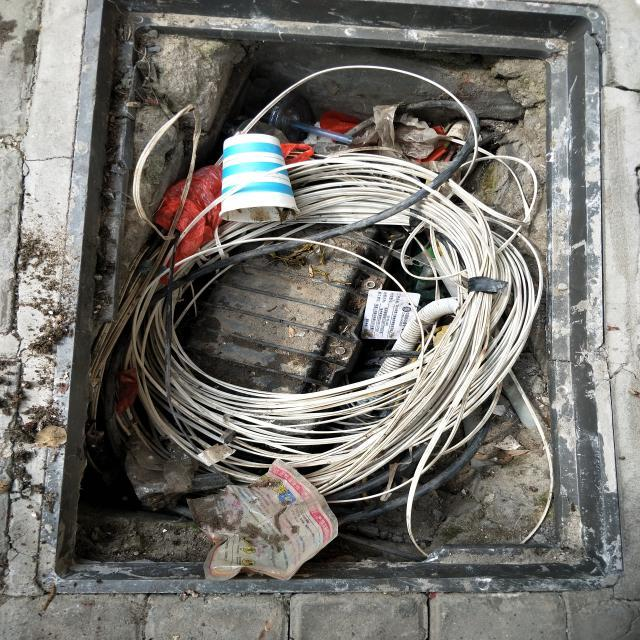Faulty: (40, 1, 624, 600)
